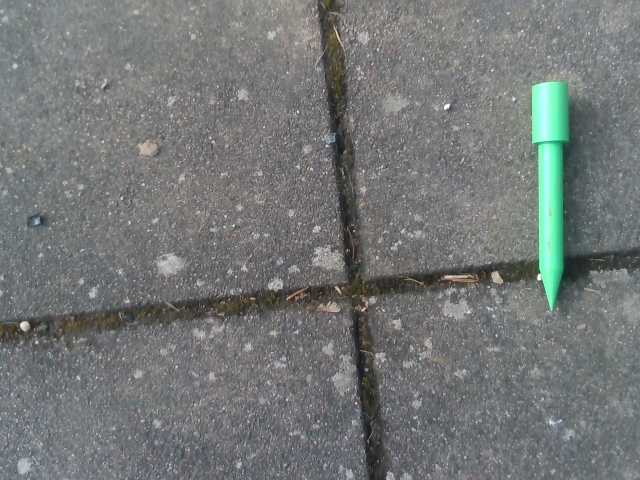Probe: (526, 77, 575, 313)
